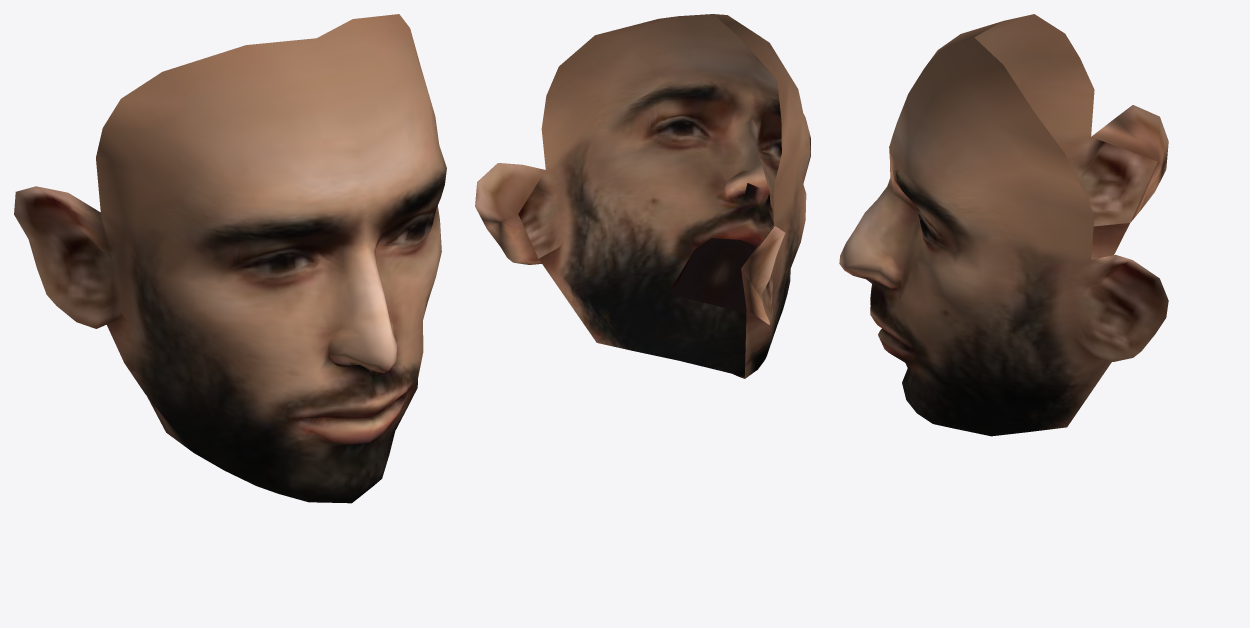
The model's file is prt-fernandes.glb.
3 renders of one model, left to right at view 1: azimuth 30°, elevation 25°; view 2: azimuth 150°, elevation 25°; view 3: azimuth 270°, elevation 25°, orthographic. The views are drawn at different scales.
Parts seen in each view (by area): view 1: prt-fernandes; view 2: prt-fernandes; view 3: prt-fernandes.
Boxes of the visible parts, x1,y1,x2,y2 form: prt-fernandes: (14,14,446,503); prt-fernandes: (475,14,810,378); prt-fernandes: (839,14,1168,436).
Size of the model in its own units: 0.186 by 0.3084 by 0.1926.
1 material, 1 textured.
